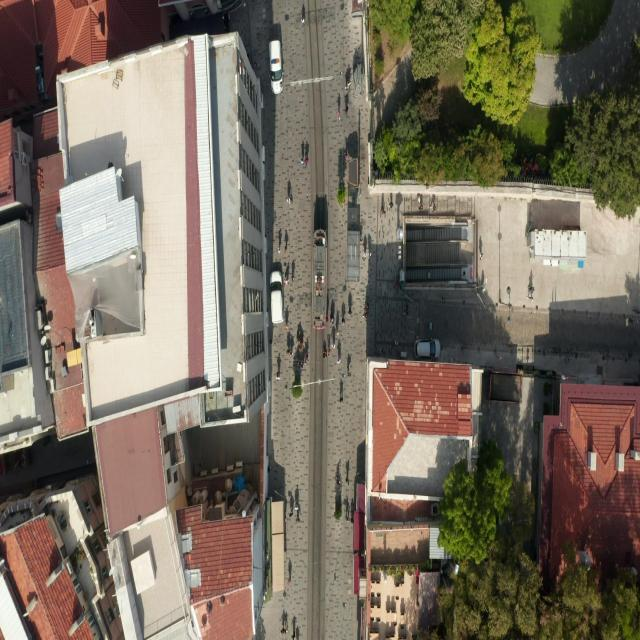Car: (268, 38, 284, 98), (270, 266, 284, 328)
Truck: (311, 226, 329, 333)
